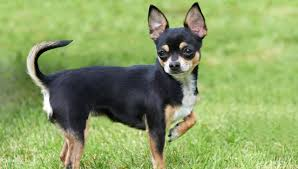Chihuahua: (23, 1, 219, 169)
